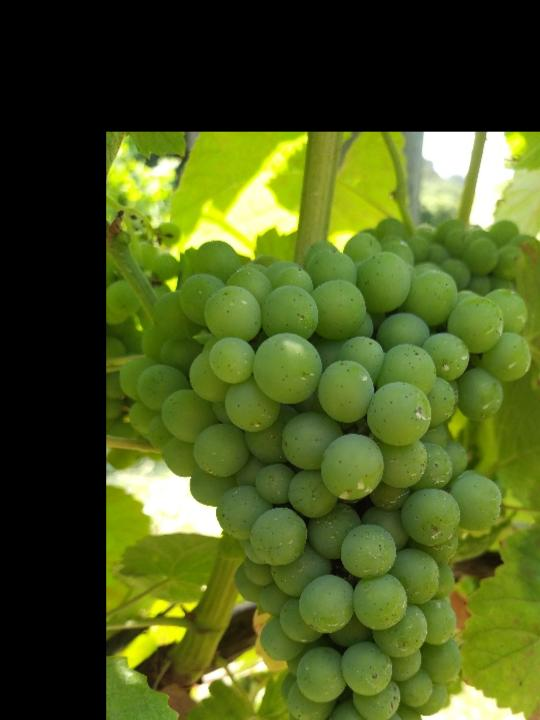grape: (117, 234, 534, 720)
